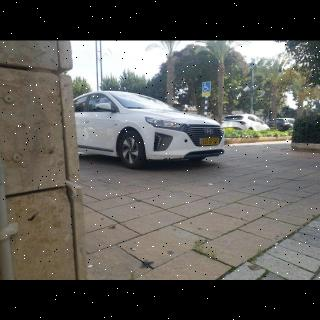LicensePlate: (202, 138, 219, 145)
